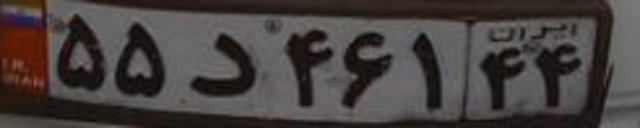1: (408, 29, 444, 108)
4: (284, 28, 334, 109), (533, 41, 582, 109), (476, 47, 525, 112)
5: (111, 20, 170, 98), (50, 14, 108, 91)
6: (340, 29, 393, 109)
dal: (184, 32, 261, 97)
